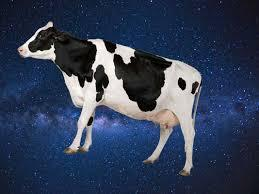cow: (17, 21, 203, 179)
